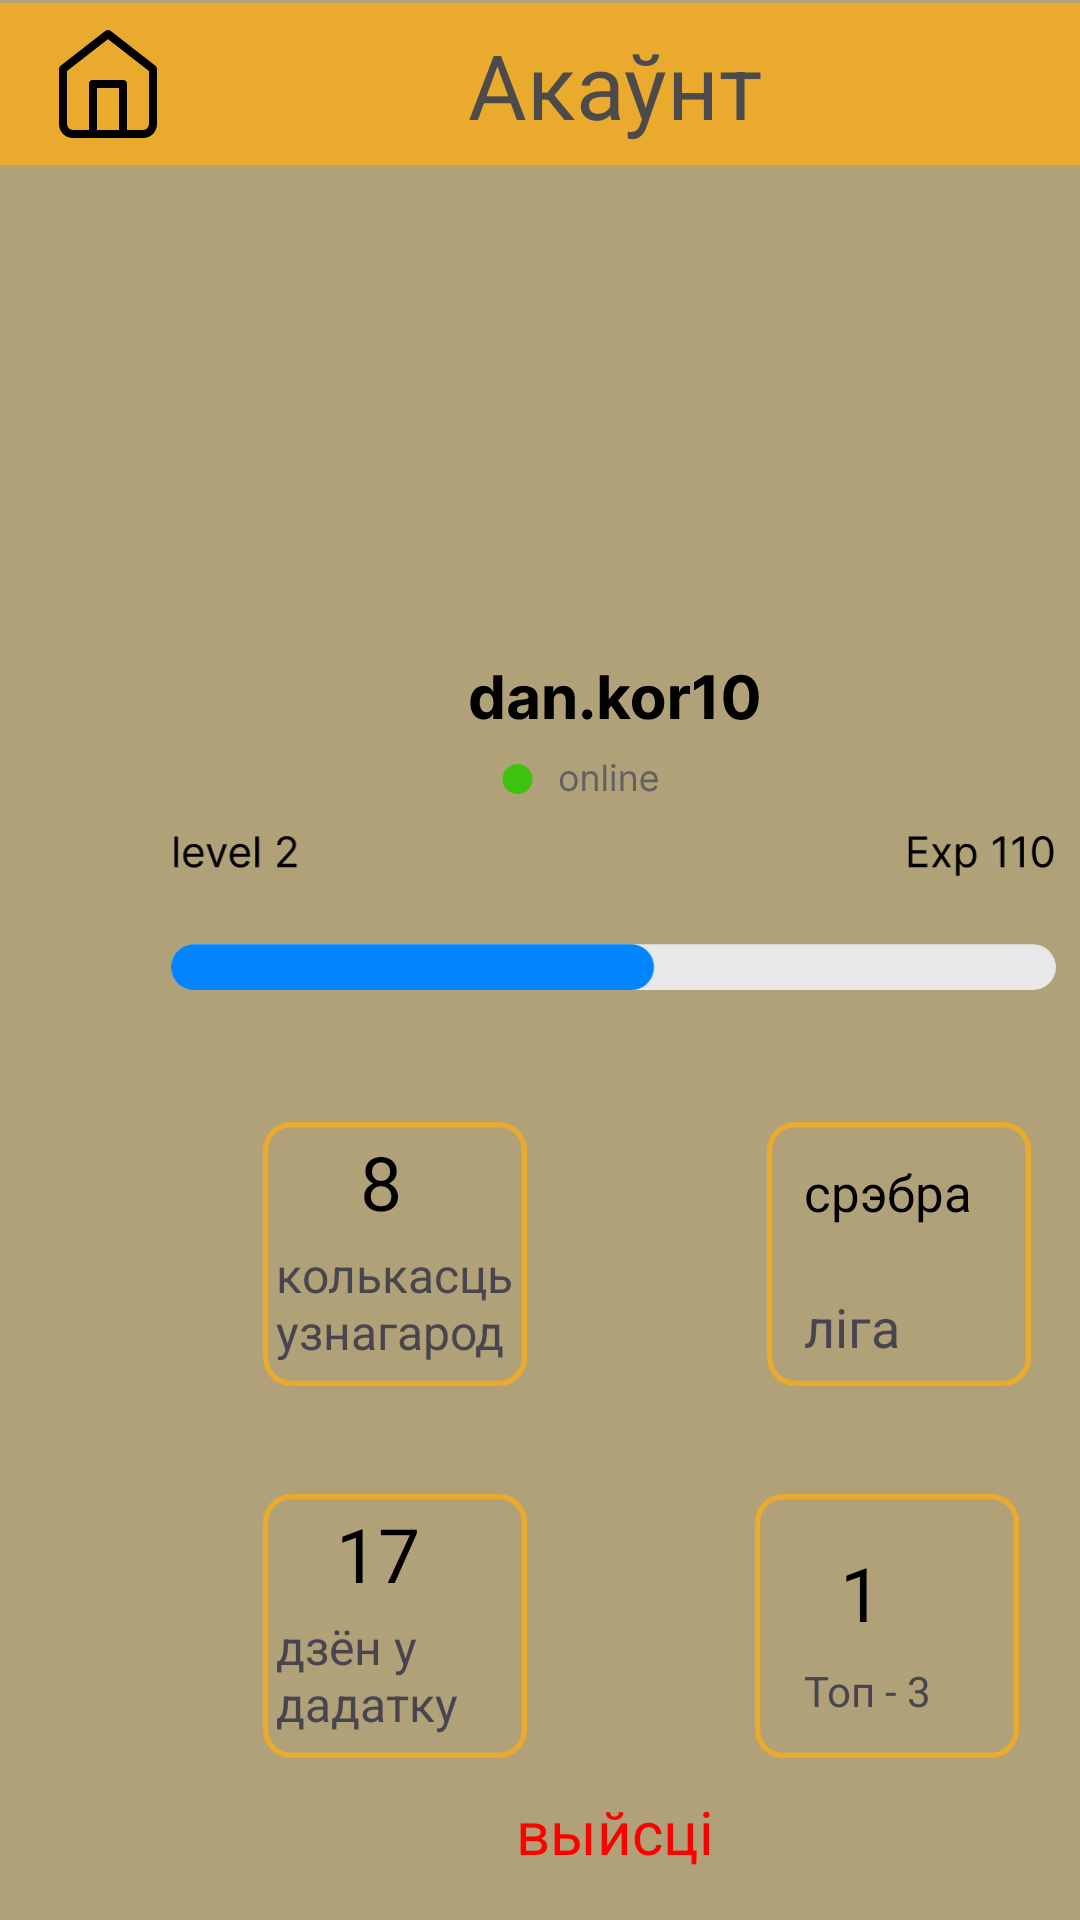

Named icons in this screenshot (1080w x 1920h) and their centers, (x,y):
home: (108,84)
